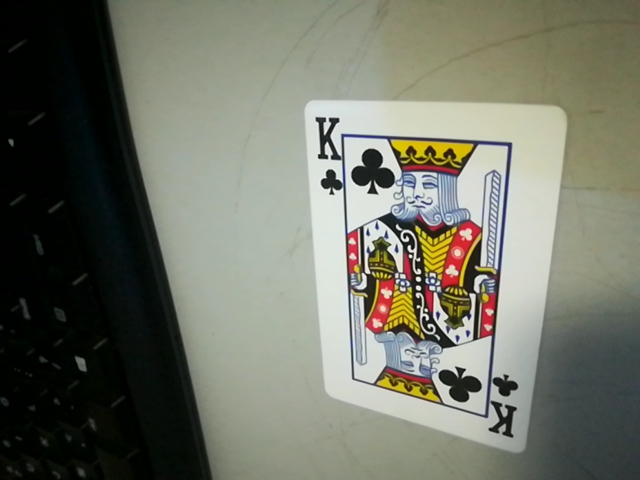mh k: (306, 109, 348, 199), (481, 370, 527, 445)
